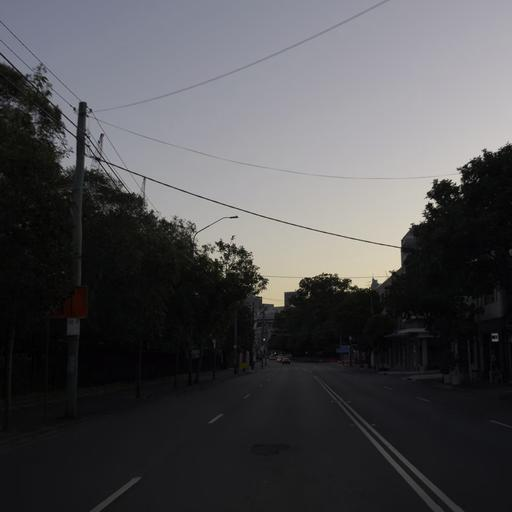Street light: (185, 212, 238, 384), (190, 213, 238, 240)
